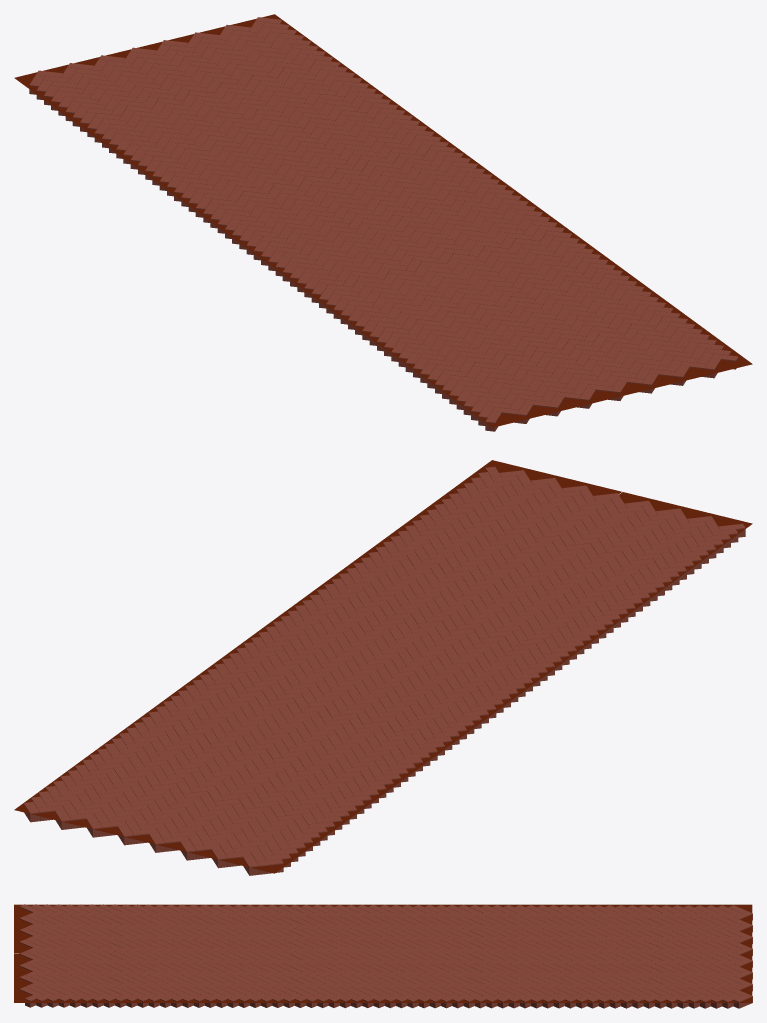
File: weg.fbx
The picture shows the model from 3 angles, top to bottom: view 1: azimuth 30°, elevation 25°; view 2: azimuth 150°, elevation 25°; view 3: azimuth 270°, elevation 25°; orthographic projection. The views are drawn at different scales.
Parts seen in each view (by area): view 1: Cube.001, Cube, Plane; view 2: Cube.001, Cube, Plane; view 3: Cube, Cube.001, Plane.
Part boxes in pixels (bbox=[...]): Cube.001: bbox=[29, 47, 612, 431]; Cube: bbox=[155, 17, 738, 400]; Plane: bbox=[14, 14, 752, 427]; Cube.001: bbox=[149, 497, 745, 875]; Cube: bbox=[23, 466, 619, 845]; Plane: bbox=[14, 460, 752, 873]; Cube: bbox=[19, 951, 752, 1008]; Cube.001: bbox=[19, 904, 752, 955]; Plane: bbox=[14, 904, 752, 1002].
Size of the model in its own units: 430 by 14.21 by 1367.
